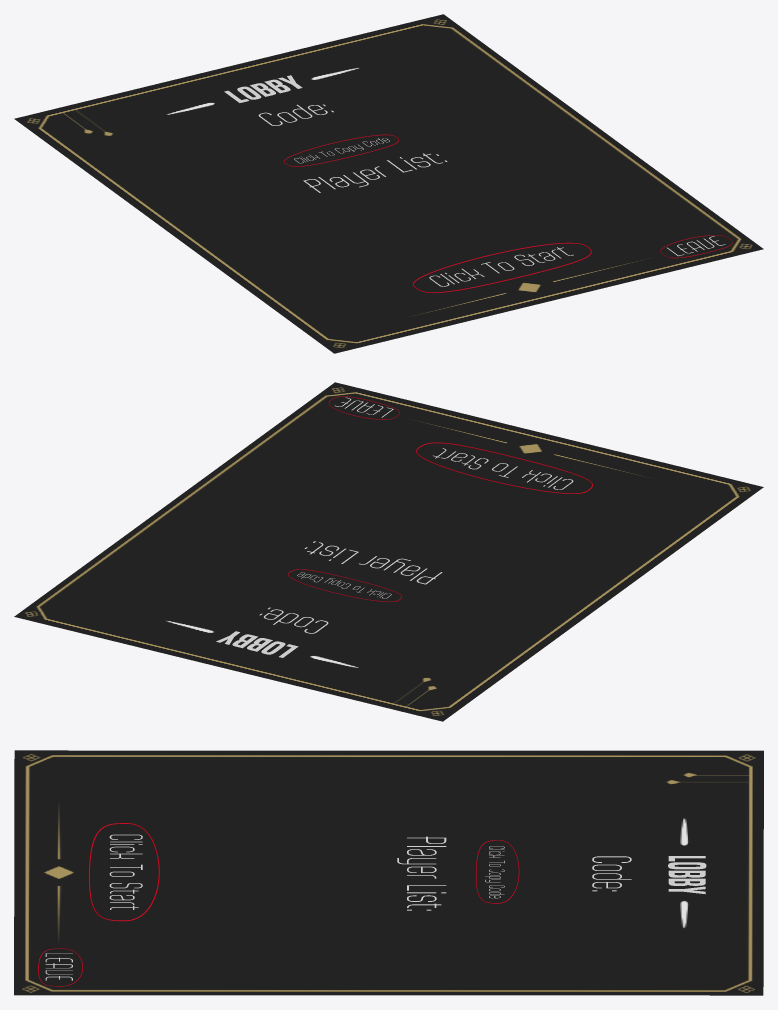
Rendered from Rulebook Lobby Page W Leave.fbx.
The picture shows the model from 3 angles, top to bottom: view 1: azimuth 30°, elevation 25°; view 2: azimuth 150°, elevation 25°; view 3: azimuth 270°, elevation 25°; orthographic projection. The views are drawn at different scales.
Parts seen in each view (by area): view 1: RulesPageMultiplayerMenu, Lobby Text; view 2: RulesPageMultiplayerMenu, Lobby Text, Player List Text; view 3: RulesPageMultiplayerMenu, Lobby Text, Player List Text, Click To Start Text, Start Game Button Outlne.
Boxes of the visible parts, bbox=[...] form: RulesPageMultiplayerMenu: bbox=[14, 14, 763, 353]; Lobby Text: bbox=[224, 75, 302, 102]; RulesPageMultiplayerMenu: bbox=[14, 382, 763, 721]; Lobby Text: bbox=[216, 631, 298, 657]; Player List Text: bbox=[304, 541, 442, 584]; RulesPageMultiplayerMenu: bbox=[14, 750, 763, 995]; Lobby Text: bbox=[668, 856, 706, 894]; Player List Text: bbox=[397, 836, 446, 910]; Click To Start Text: bbox=[109, 834, 142, 909]; Start Game Button Outlne: bbox=[88, 823, 159, 921].
Bounding box in the file's own units: 22.03 × 0.0613 × 28.49.
4 materials, 1 textured.
